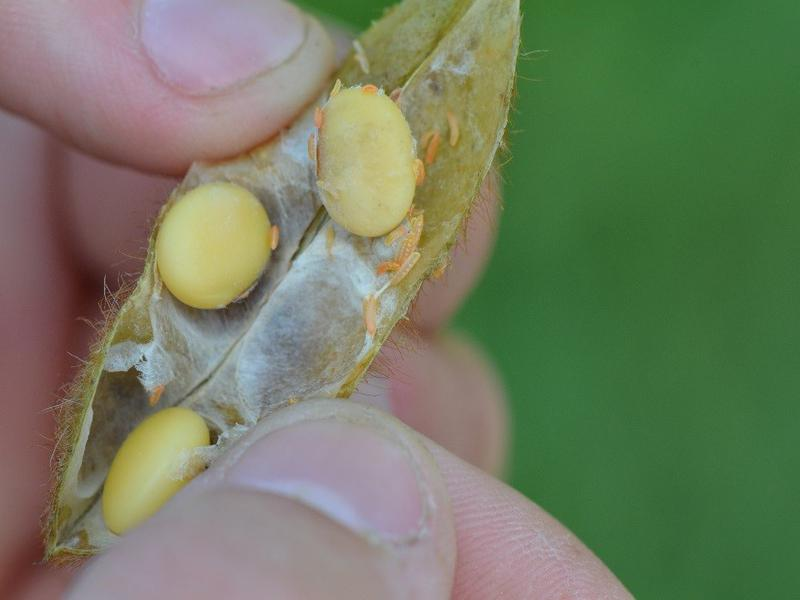Gall_midge: (145, 177, 267, 330), (310, 84, 425, 239), (87, 400, 220, 530)
